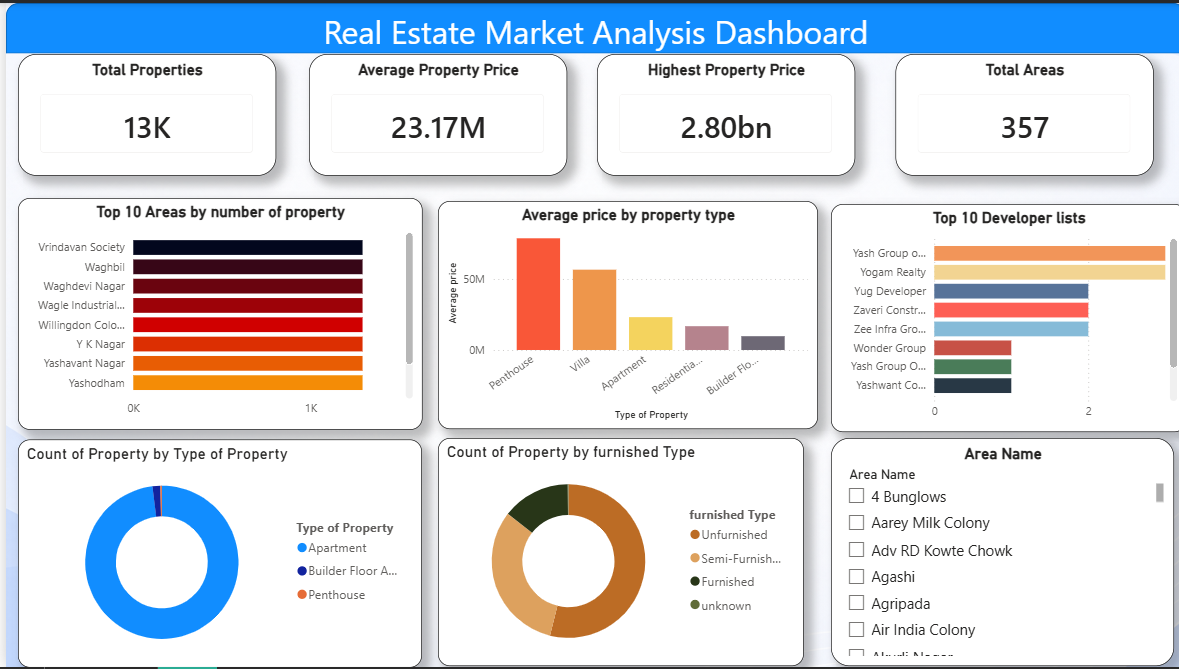

This screenshot's page, from the dashboard's own definition file:
{"tool":"powerbi","page":{"name":"Page 1","canvas":[1280,720],"ordinal":0},"visuals":[{"type":"cardVisual","title":"Total Properties","fields":{"Data":["real_estate_db premium_properties.Total Properties"]},"box":[13.2,54.8,279.7,132.3],"z":0},{"type":"cardVisual","title":"Average Property Price","fields":{"Data":["real_estate_db properties.Average price"]},"box":[328.8,54.8,279.7,132.3],"z":1000},{"type":"cardVisual","title":"Highest Property Price","fields":{"Data":["real_estate_db properties.Highest Price"]},"box":[640.6,54.8,279.7,132.3],"z":2000},{"type":"cardVisual","title":"Total Areas","fields":{"Data":["real_estate_db properties.Total_Area"]},"box":[963.8,54.8,279.7,132.3],"z":3000},{"type":"clusteredBarChart","title":"Top 10 Areas by number of property","fields":{"Category":["real_estate_db properties.Area Name"],"Y":["CountNonNull(real_estate_db premium_properties.Property)"]},"box":[13.2,211.7,438.4,251.3],"z":4000},{"type":"clusteredColumnChart","title":"Average price by property type","fields":{"Category":["real_estate_db properties.Type of Property"],"Y":["real_estate_db properties.Average price"]},"box":[468.7,215.4,412,247.6],"z":5000},{"type":"barChart","title":"Top 10 Developer lists","fields":{"Category":["real_estate_db properties.Developer"],"Y":["CountNonNull(real_estate_db properties.Property)"]},"box":[893.9,217.3,385.5,247.6],"z":6000},{"type":"donutChart","fields":{"Category":["real_estate_db properties.Type of Property"],"Y":["CountNonNull(real_estate_db properties.Property)"]},"box":[13,473,438,247],"z":7000},{"type":"donutChart","fields":{"Y":["CountNonNull(real_estate_db properties.Property)"],"Category":["real_estate_db properties.furnished Type"]},"box":[468.7,472.4,396.9,247.6],"z":8000},{"type":"slicer","title":"Area Name","fields":{"Values":["real_estate_db properties.Area Name"]},"box":[893.9,472.4,372.3,247.6],"z":9000},{"type":"shape","box":[0,0,1279.4,54.8],"z":10000}]}

Visuals, with their boxes in screenshot pixels (x1, y1, x2, y2), scaled from the page's 1280x720 canvas onto the 1179x669 screenshot:
"Total Properties" cardVisual: bbox=[12, 51, 270, 174]
"Average Property Price" cardVisual: bbox=[303, 51, 560, 174]
"Highest Property Price" cardVisual: bbox=[590, 51, 848, 174]
"Total Areas" cardVisual: bbox=[888, 51, 1145, 174]
"Top 10 Areas by number of property" clusteredBarChart: bbox=[12, 197, 416, 430]
"Average price by property type" clusteredColumnChart: bbox=[432, 200, 811, 430]
"Top 10 Developer lists" barChart: bbox=[823, 202, 1178, 432]
donutChart - real_estate_db properties.Type of Property x CountNonNull(real_estate_db properties.Property): bbox=[12, 439, 415, 668]
donutChart - CountNonNull(real_estate_db properties.Property) x real_estate_db properties.furnished Type: bbox=[432, 439, 797, 668]
"Area Name" slicer: bbox=[823, 439, 1166, 668]
shape: bbox=[0, 0, 1178, 51]
